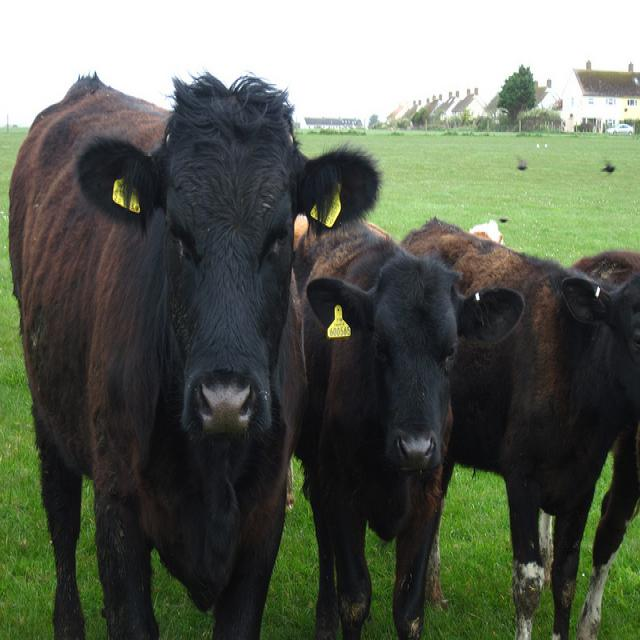Vehicle: (607, 123, 634, 135)
